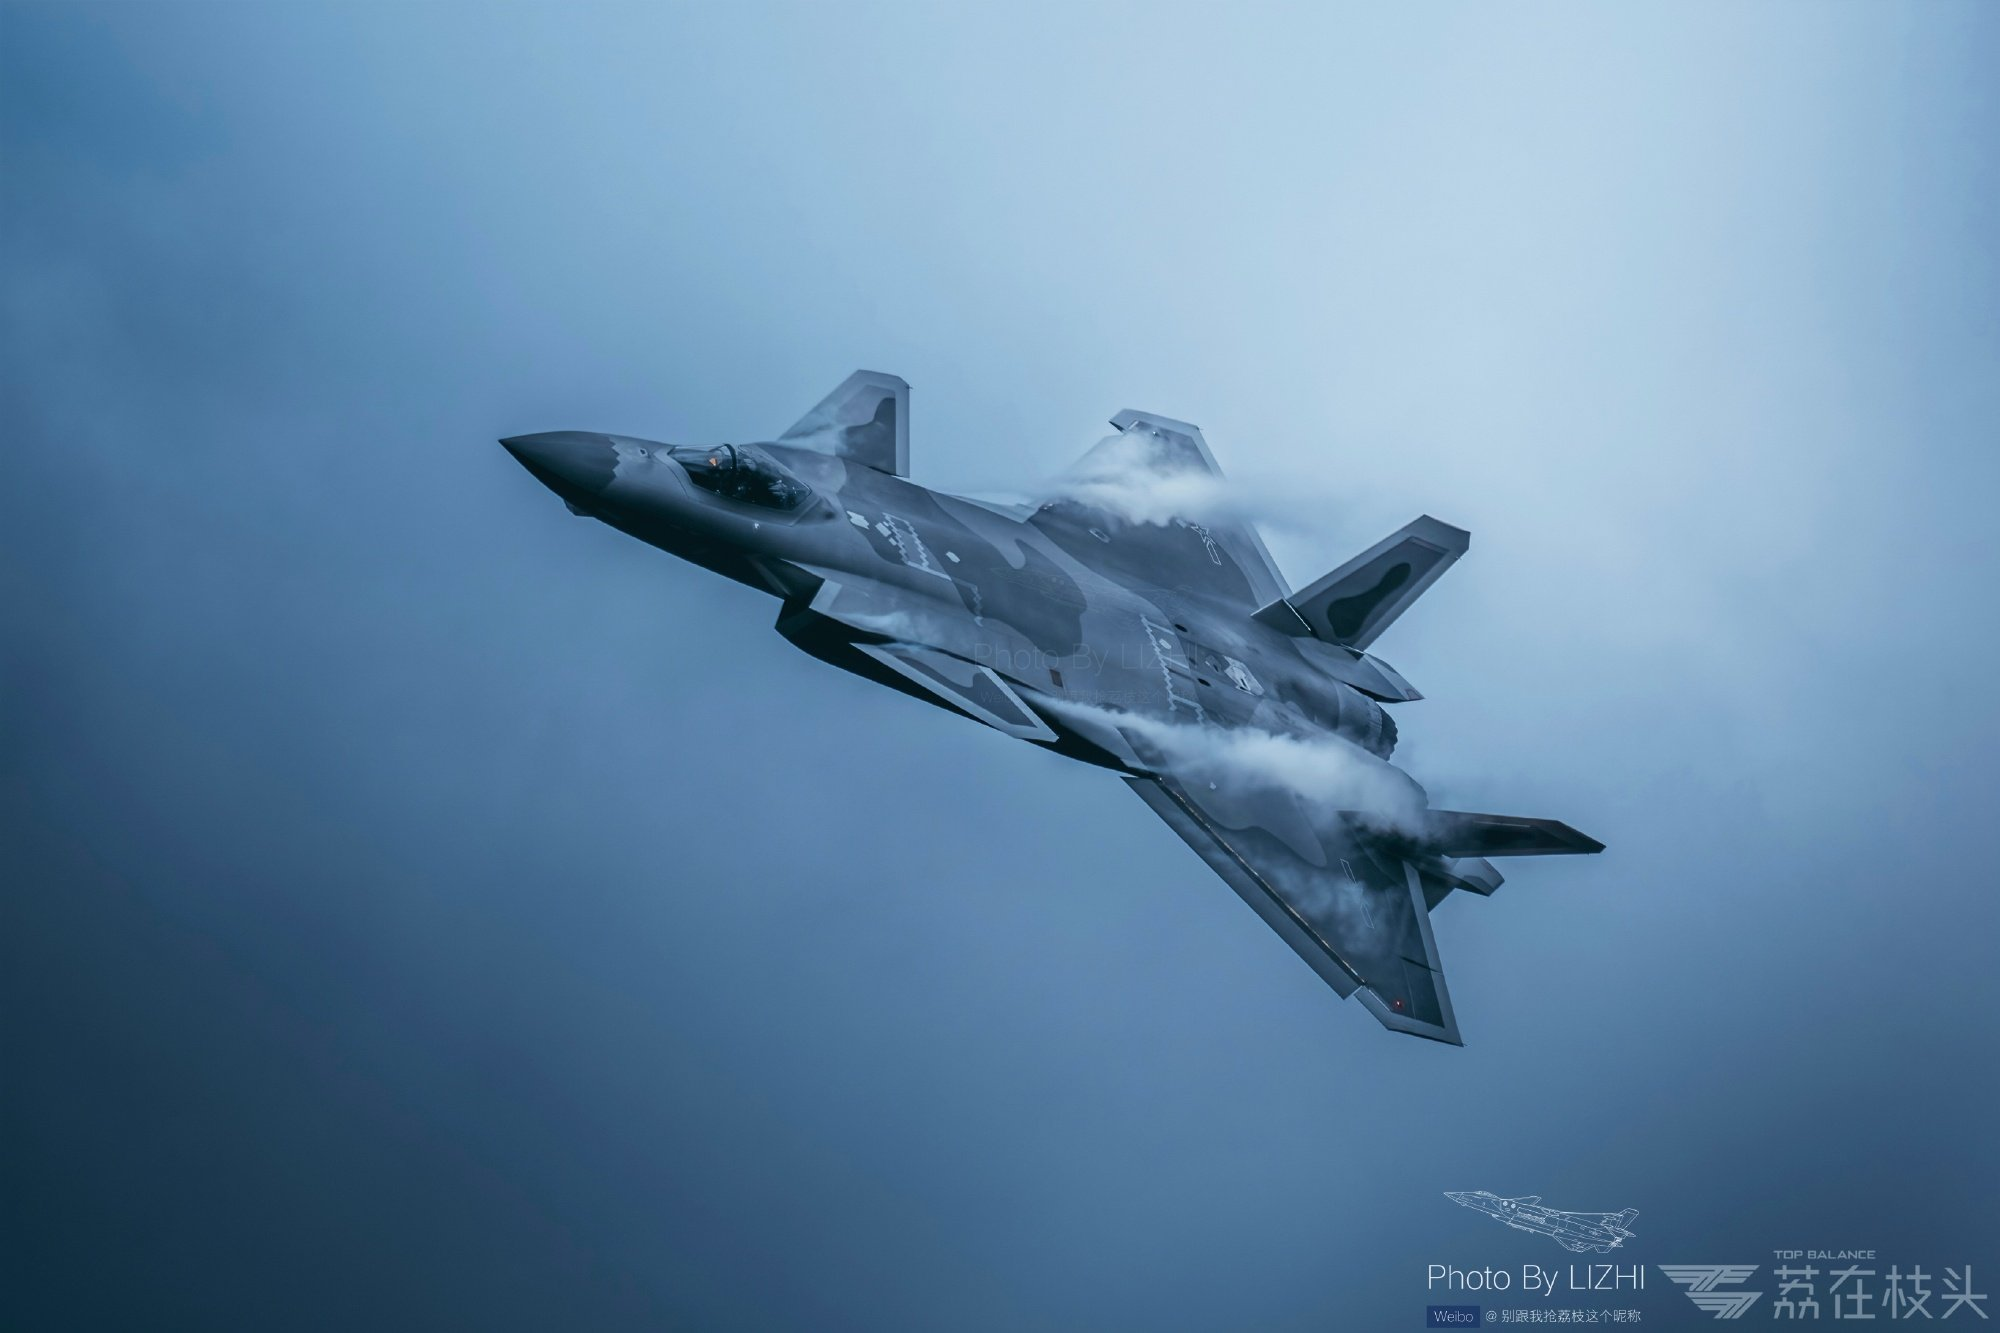J20: (497, 369, 1607, 1047)
